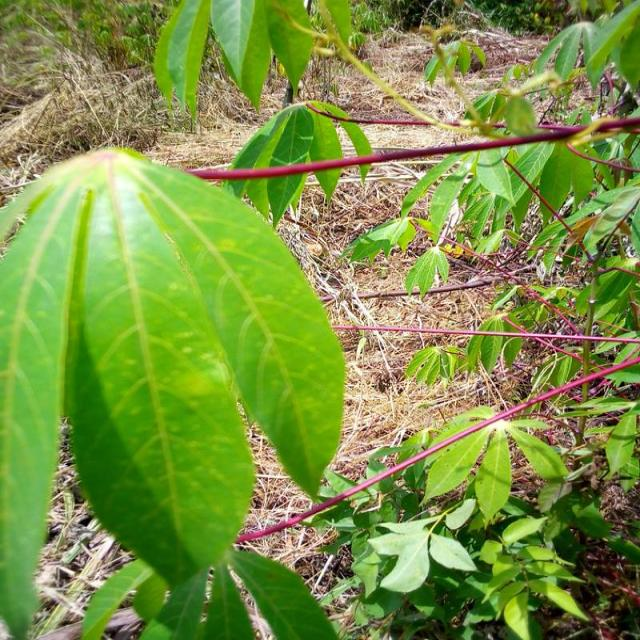cassava leaf: (1, 144, 346, 636)
